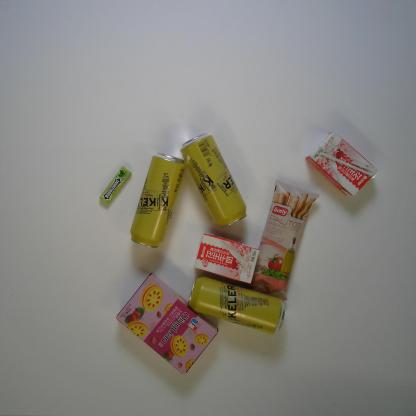Alcohol: (180, 132, 248, 228), (187, 276, 286, 336), (130, 152, 186, 250)
Dessert: (116, 272, 218, 375), (248, 178, 320, 302)
Gum: (99, 166, 131, 204)
Milk: (305, 130, 379, 198), (194, 234, 260, 284)
